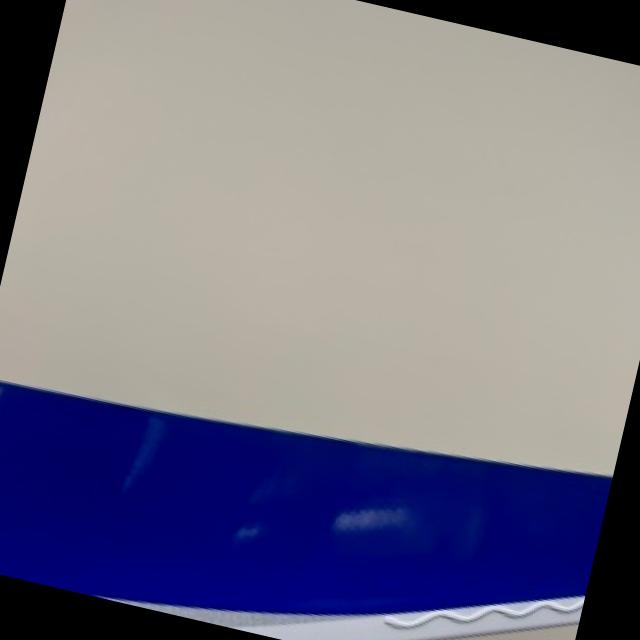healthy: (0, 381, 610, 612)
